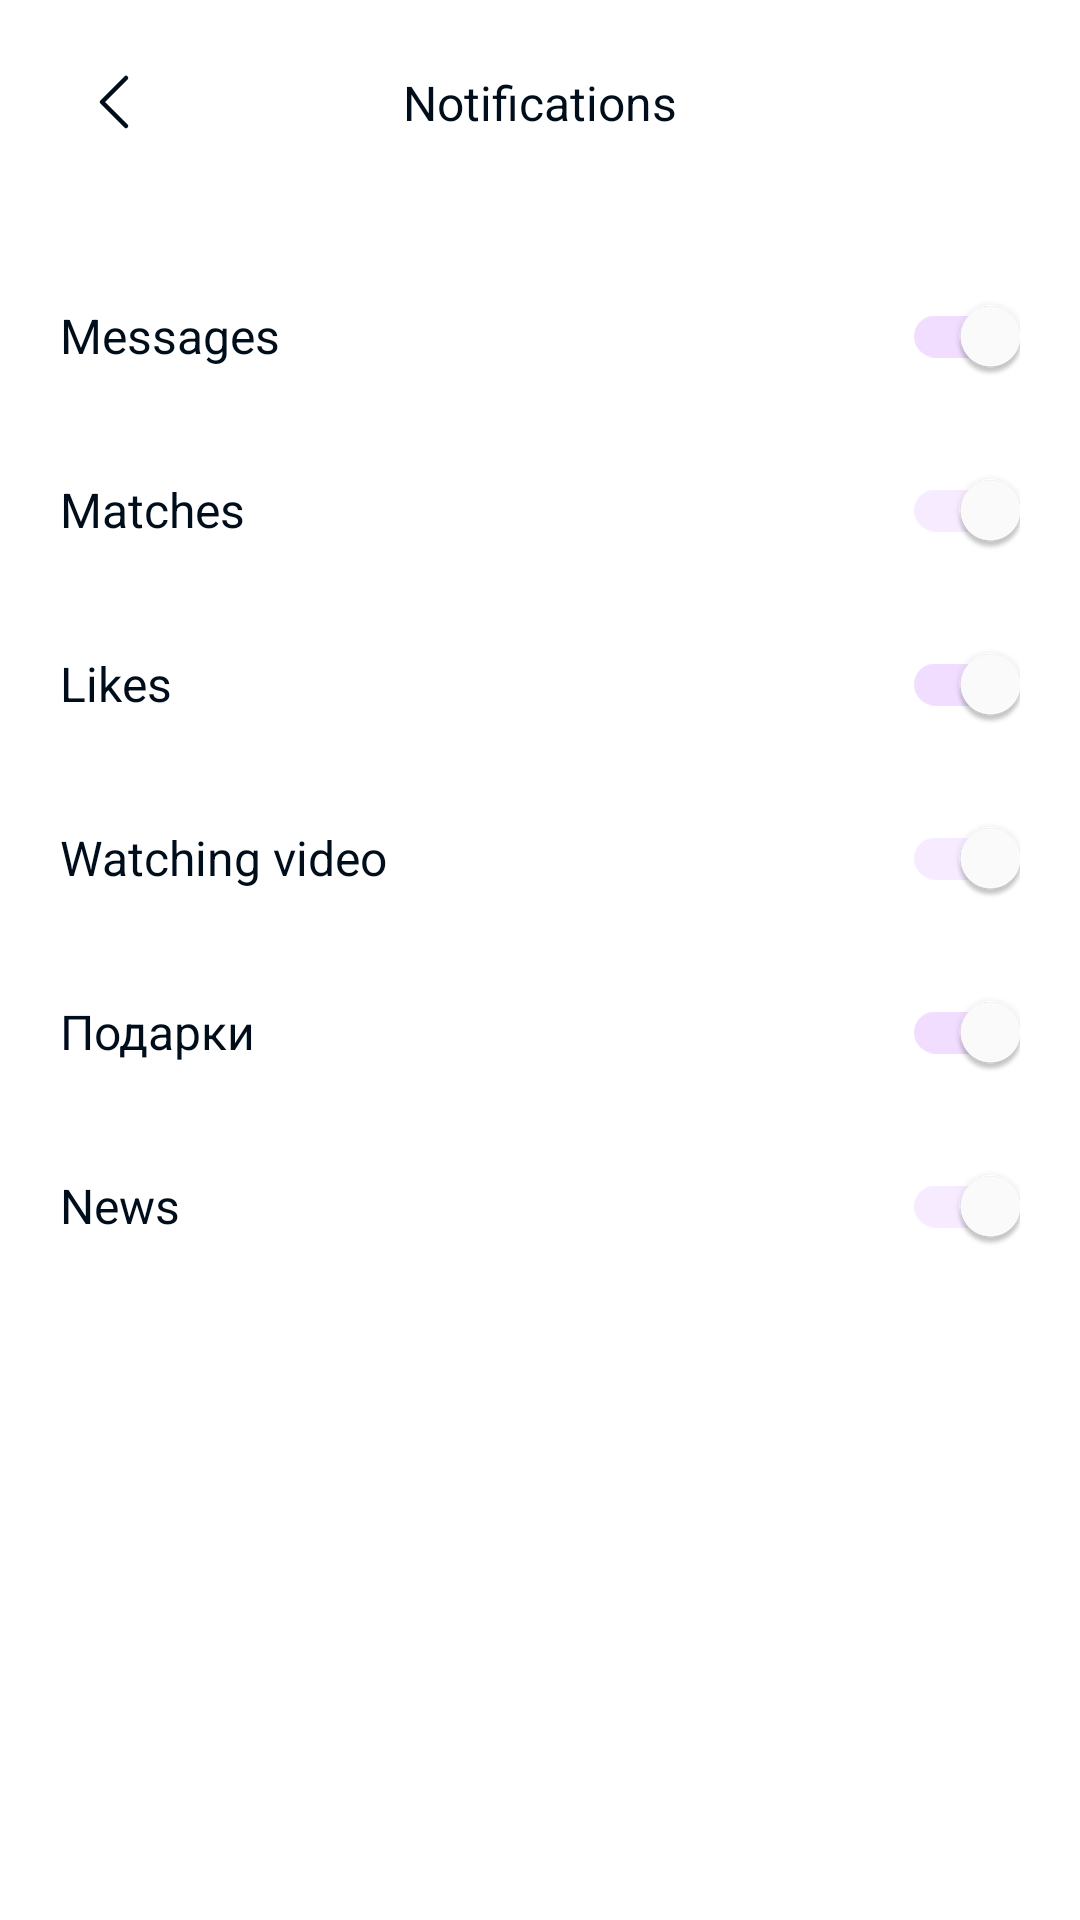

Where icons sit on this 1080px x 1920px app screen, as rect(x1, y1, x2, y2):
chevron left: rect(99, 75, 129, 129)
